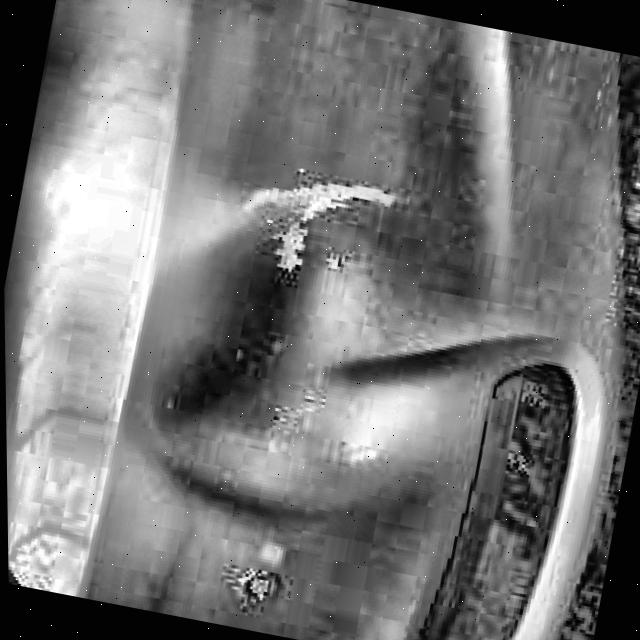bumper_dent: (116, 202, 459, 532)
